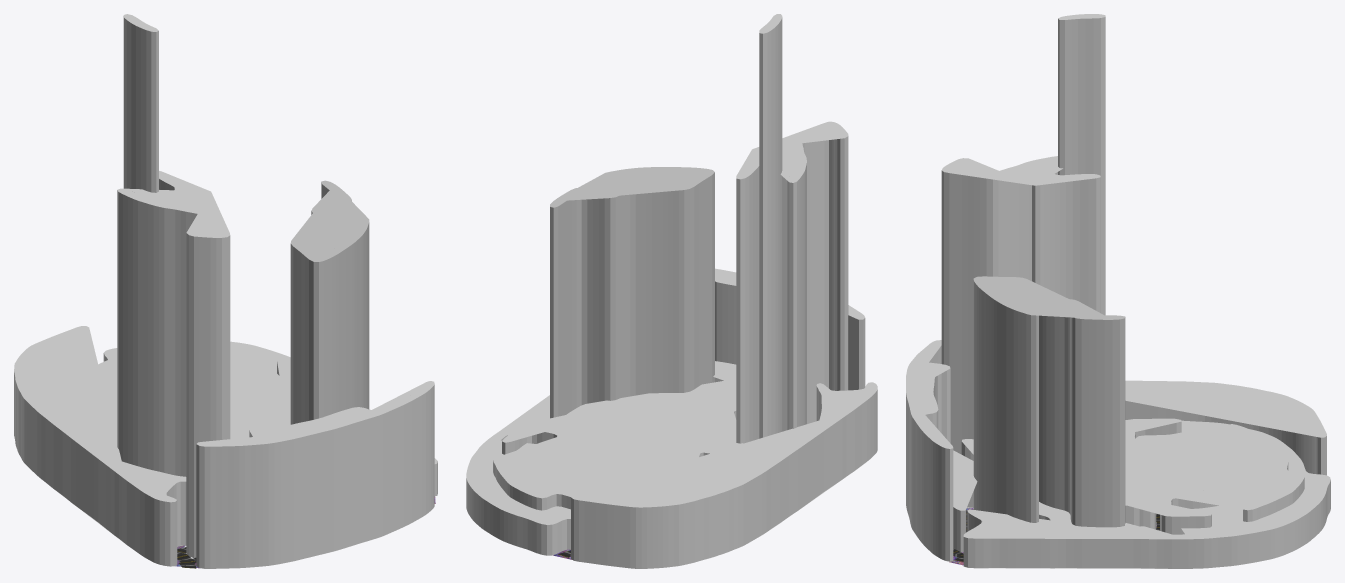
File: City2v5.fbx
3 views of the same model, side by side, from view 1: azimuth 30°, elevation 25°; view 2: azimuth 150°, elevation 25°; view 3: azimuth 270°, elevation 25° (orthographic). The views are drawn at different scales.
Parts seen in each view (by area): view 1: North Edge Building, Second Tallest Building, East Edge Wall, big shorter building, Tallest building, Center, Outer Center; view 2: big shorter building, East Edge Wall, Second Tallest Building, Center, Tallest building, Outer Center, North Edge Building; view 3: big shorter building, Second Tallest Building, Outer Center, Center, North Edge Building, East Edge Wall, Tallest building.
Part boxes in pixels (x1,y1,x2,y2): North Edge Building: [196, 381, 434, 568]; Second Tallest Building: [117, 171, 230, 557]; East Edge Wall: [14, 326, 186, 566]; big shorter building: [290, 180, 369, 424]; Tallest building: [123, 14, 158, 192]; Center: [98, 342, 290, 441]; Outer Center: [103, 341, 437, 496]; big shorter building: [550, 167, 714, 418]; East Edge Wall: [571, 382, 877, 568]; Second Tallest Building: [736, 121, 848, 443]; Center: [493, 361, 743, 510]; Tallest building: [759, 14, 782, 438]; Outer Center: [466, 395, 570, 555]; North Edge Building: [715, 268, 865, 390]; big shorter building: [973, 276, 1125, 527]; Second Tallest Building: [941, 156, 1100, 454]; Outer Center: [963, 420, 1330, 568]; Center: [953, 418, 1304, 552]; North Edge Building: [906, 340, 953, 561]; East Edge Wall: [1125, 380, 1326, 475]; Tallest building: [1058, 14, 1105, 315].
Size of the model in its own units: 4699 by 7500 by 6491.
